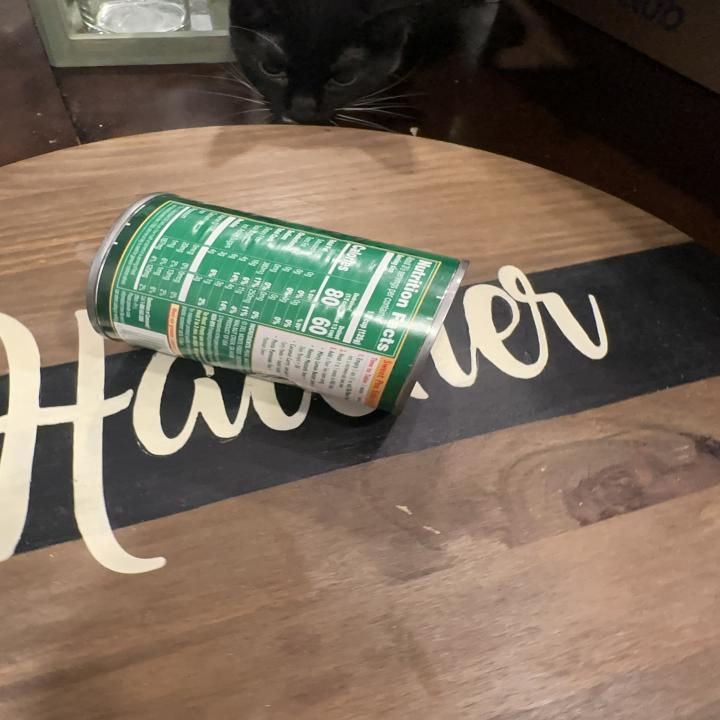Canned-Peas: (87, 191, 471, 430)
